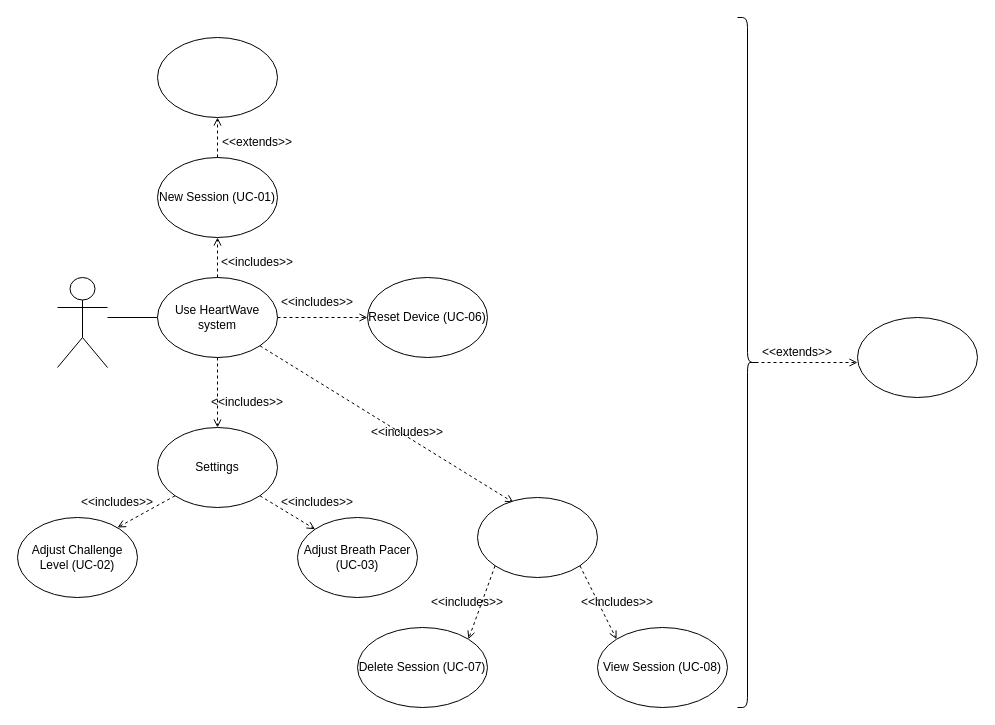
This 995x725 diagram has some shape labels left out. Here are the shapes that lost their labels. From the top down, the centre of each, then its label:
pixel 217 77: Lose HR Contact (UC-04)
pixel 82 322: User
pixel 917 357: No Battery (UC-05)
pixel 537 537: Session History
